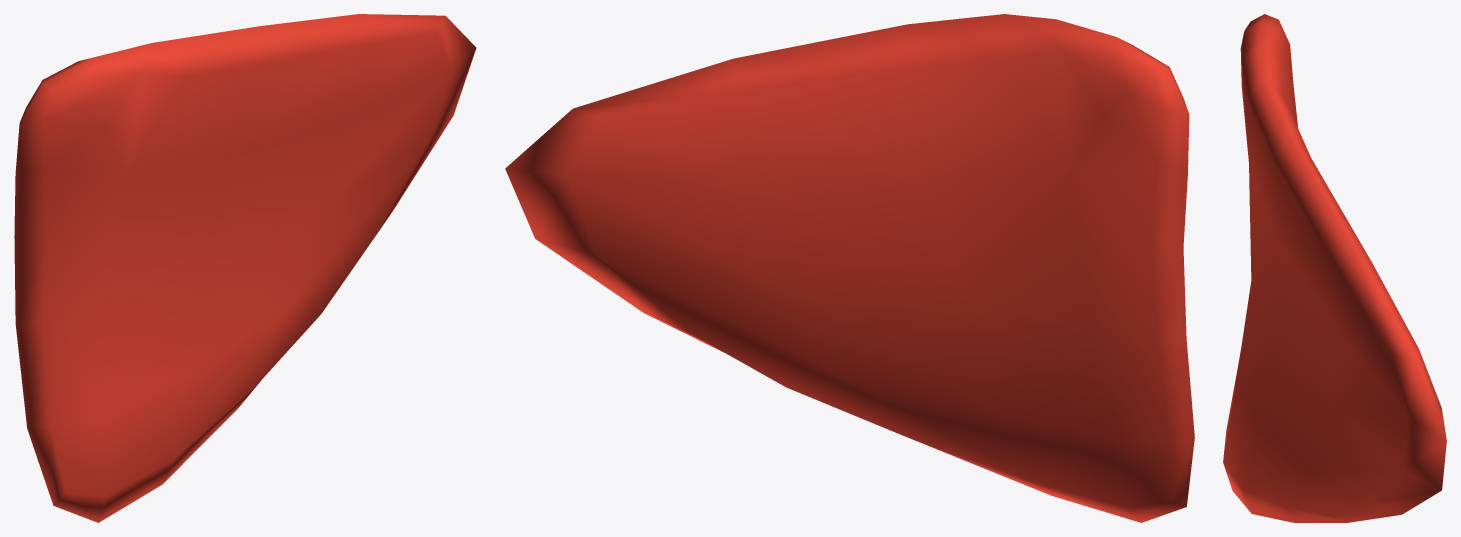
File: Orbicularis_oris-_Insertion.l_Generated_Mesh_From_X3D.773.glb
3 views of the same model, side by side, from view 1: azimuth 30°, elevation 25°; view 2: azimuth 150°, elevation 25°; view 3: azimuth 270°, elevation 25° (orthographic). The views are drawn at different scales.
Parts seen in each view (by area): view 1: Orbicularis_oris-_Insertion.l_Generated_Mesh_From_X3D.773; view 2: Orbicularis_oris-_Insertion.l_Generated_Mesh_From_X3D.773; view 3: Orbicularis_oris-_Insertion.l_Generated_Mesh_From_X3D.773.
Part boxes in pixels (x1,y1,x2,y2): Orbicularis_oris-_Insertion.l_Generated_Mesh_From_X3D.773: [14, 14, 476, 522]; Orbicularis_oris-_Insertion.l_Generated_Mesh_From_X3D.773: [505, 14, 1194, 522]; Orbicularis_oris-_Insertion.l_Generated_Mesh_From_X3D.773: [1223, 14, 1446, 522].
Size of the model in its own units: 0.00579 by 0.00463 by 0.00198.
